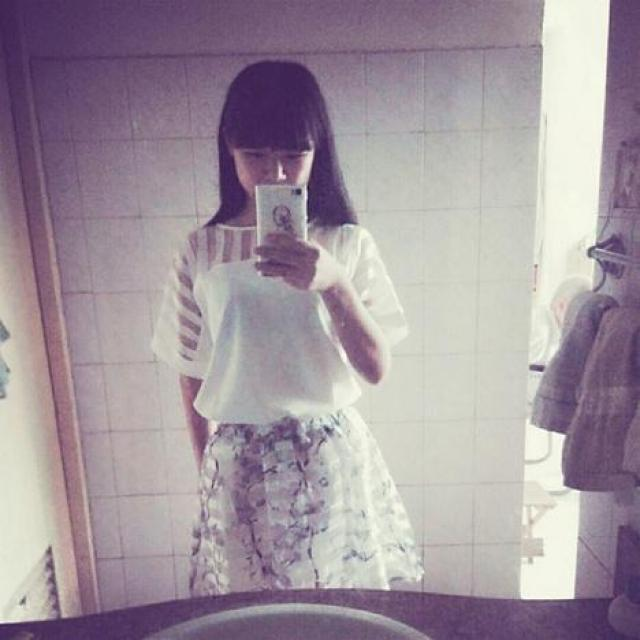short sleeve top: (149, 213, 408, 425)
skirt: (190, 398, 421, 600)
